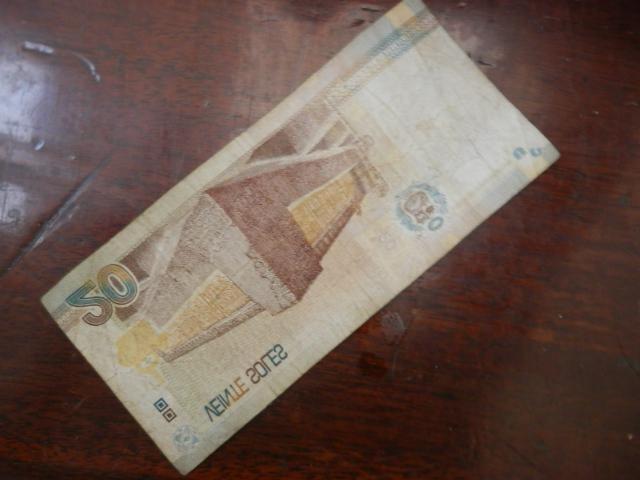B20: (40, 3, 559, 472)
